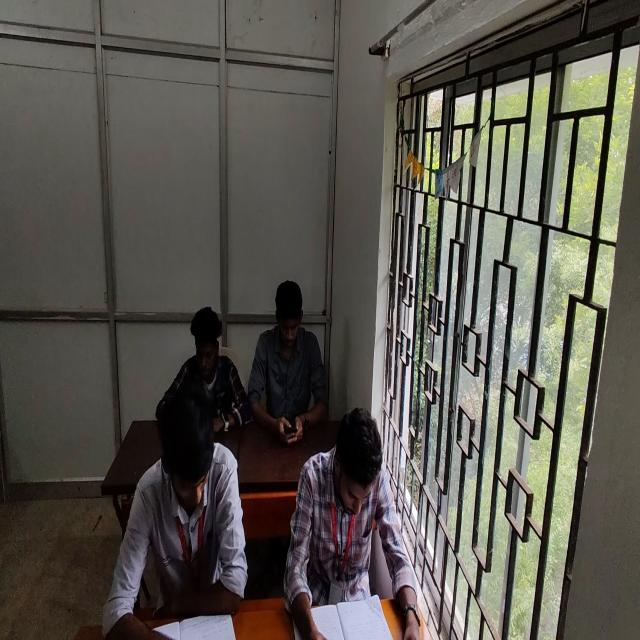reading: (100, 396, 248, 640), (278, 402, 424, 640)
using_mobile: (144, 294, 254, 436), (248, 266, 334, 445)
